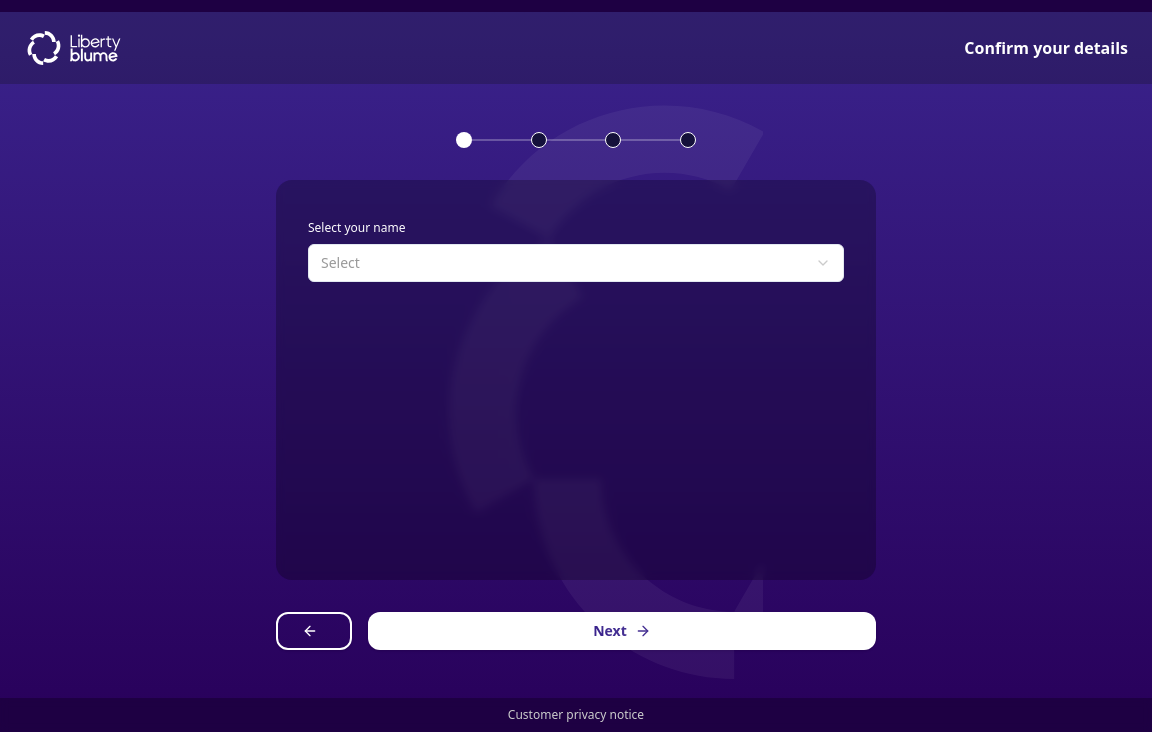
ConfirmName › checkbox functionality › shows checkbox when a valid signatory is selected
Step 1. Click the dropdown → x=340, y=262, box 308,244 -> 844,282
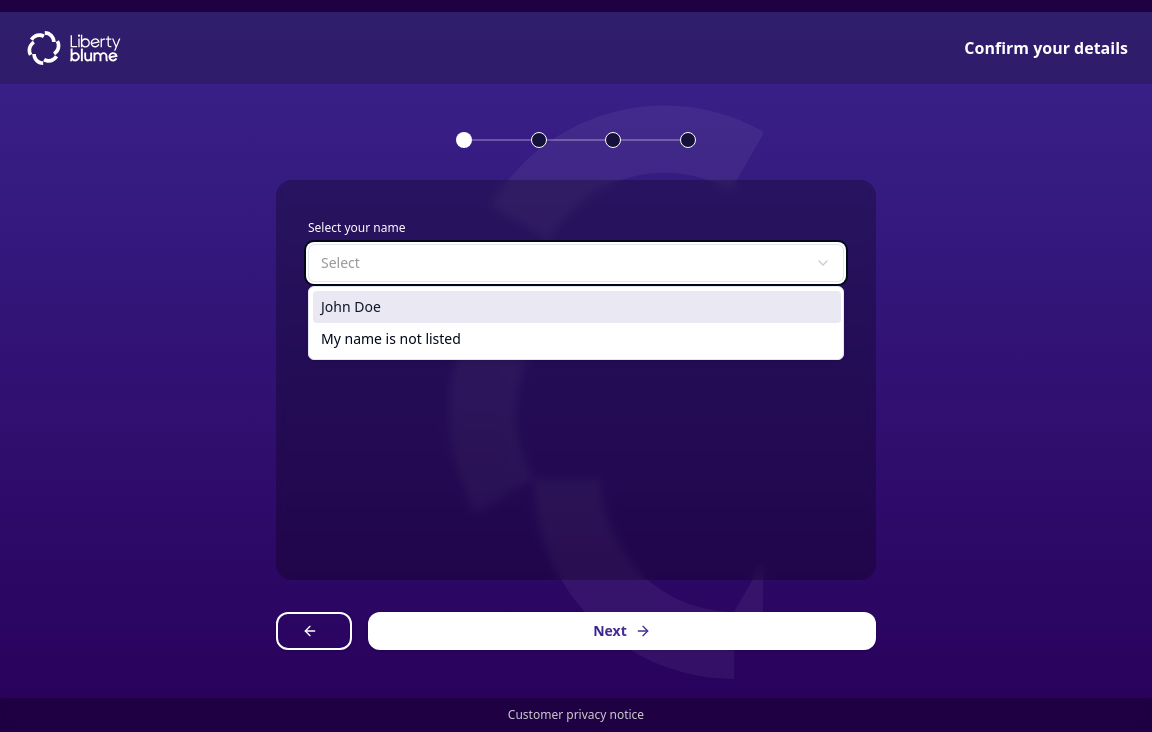
Step 2. Click the option "John Doe" → x=351, y=306, box 313,291 -> 841,323
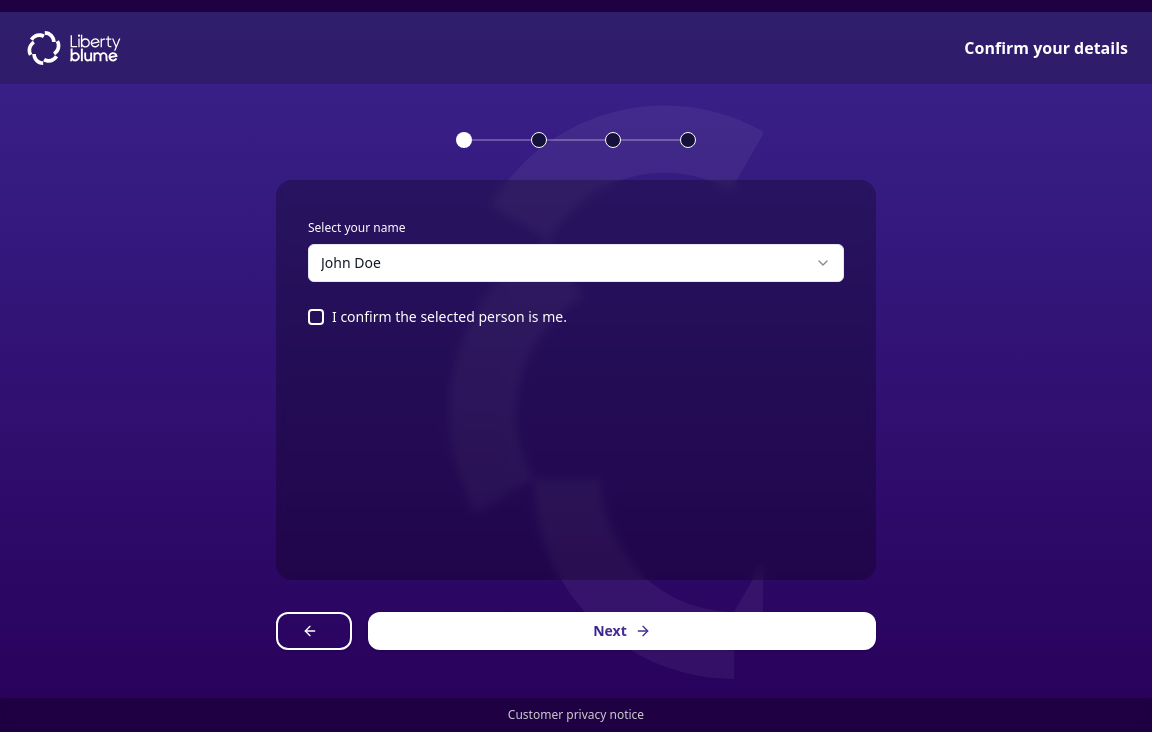
Check: the checkbox is shown, box 308,308 -> 324,324
